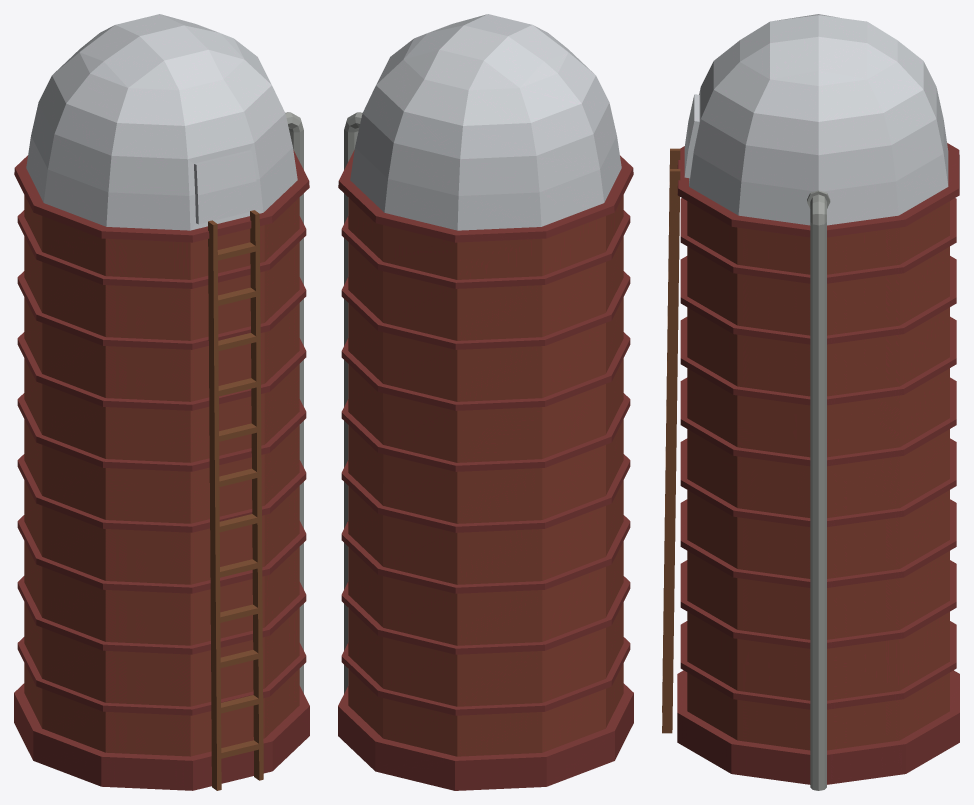
Rendered from silo.glb.
3 views of the same model, side by side, from view 1: azimuth 30°, elevation 25°; view 2: azimuth 150°, elevation 25°; view 3: azimuth 270°, elevation 25° (orthographic).
Parts seen in each view (by area): view 1: Silo_Cylinder.007; view 2: Silo_Cylinder.007; view 3: Silo_Cylinder.007.
Part boxes in pixels (box(x1,y1,x2,y2)): Silo_Cylinder.007: box(14, 14, 309, 790); Silo_Cylinder.007: box(338, 14, 633, 790); Silo_Cylinder.007: box(662, 14, 959, 790).
Size of the model in its own units: 3.67 by 9.07 by 3.51.
1 material, 1 textured.
